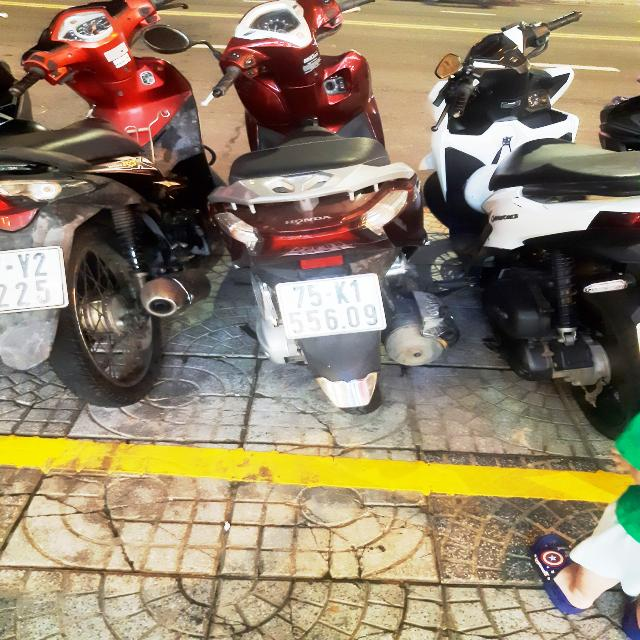license_plate: (280, 276, 388, 338)
